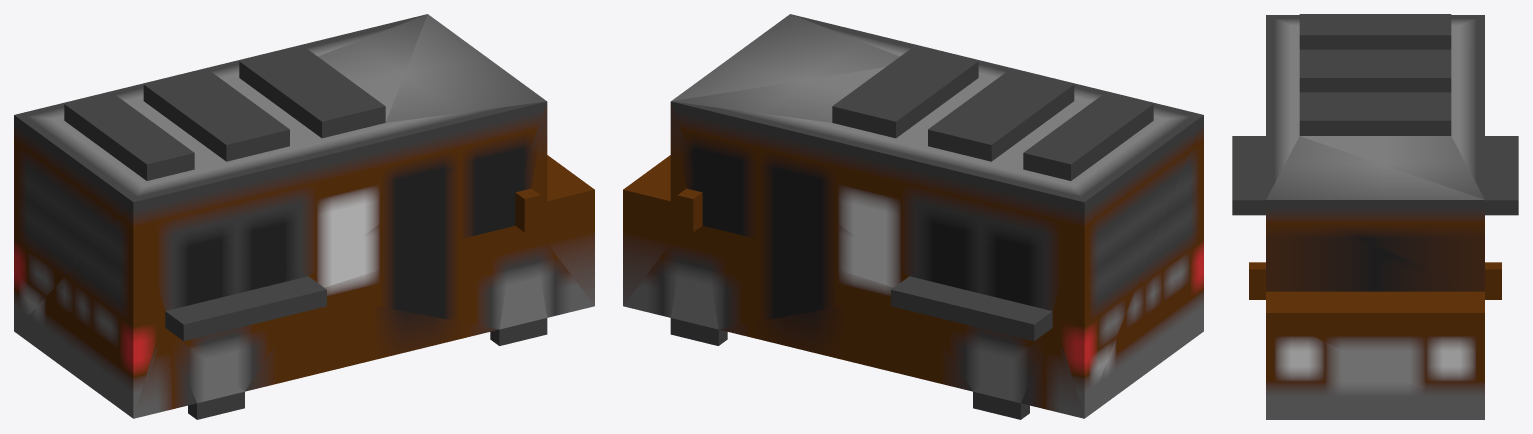
Rendered from veh_lunch4.fbx.
3 renders of one model, left to right at view 1: azimuth 30°, elevation 25°; view 2: azimuth 150°, elevation 25°; view 3: azimuth 270°, elevation 25°, orthographic. The views are drawn at different scales.
Visible parts, largest first — view 1: veh_lunch4; view 2: veh_lunch4; view 3: veh_lunch4.
Part boxes in pixels (box(x1,y1,x2,y2)): veh_lunch4: box(14, 14, 594, 419); veh_lunch4: box(623, 14, 1203, 419); veh_lunch4: box(1232, 14, 1518, 419).
Bounding box in the file's own units: 2.9 × 1.7 × 1.5.
1 material, 1 textured.
